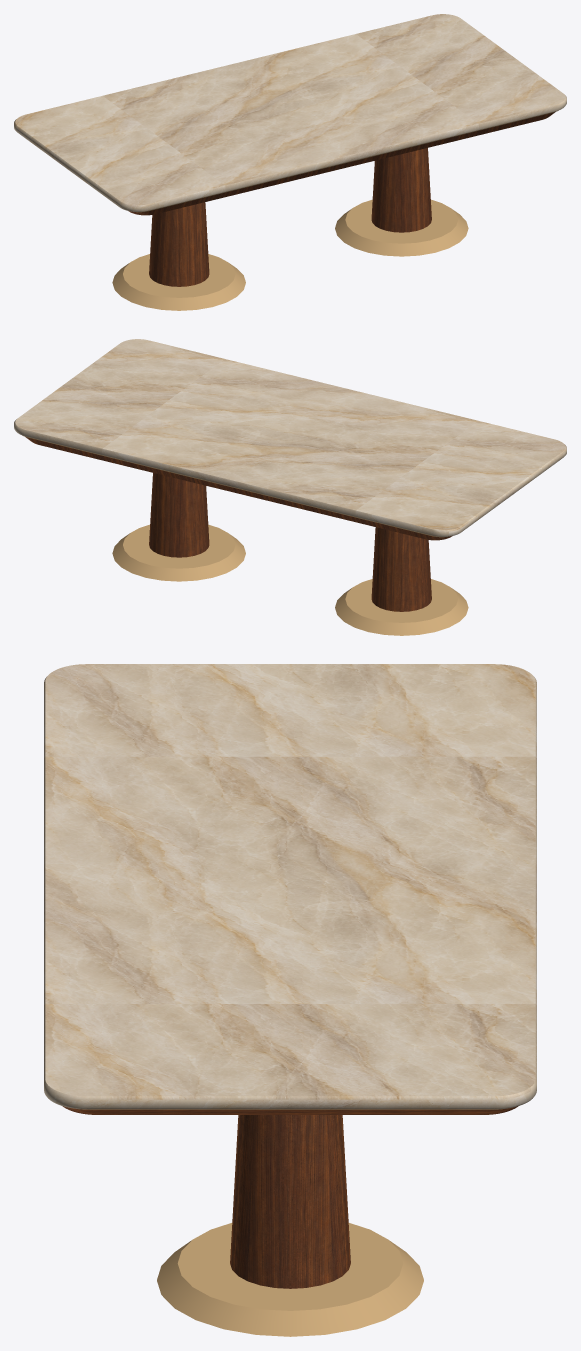
The model's file is SaloonRectangularTableFor8.glb.
The picture shows the model from 3 angles, top to bottom: view 1: azimuth 30°, elevation 25°; view 2: azimuth 150°, elevation 25°; view 3: azimuth 270°, elevation 25°; orthographic projection. The views are drawn at different scales.
Visible parts, largest first — view 1: Champagne edge.002; view 2: Champagne edge.002; view 3: Champagne edge.002.
Boxes of the visible parts, x1=… form: Champagne edge.002: x1=14, y1=14, x2=566, y2=310; Champagne edge.002: x1=14, y1=339, x2=566, y2=635; Champagne edge.002: x1=44, y1=664, x2=536, y2=1336.
Size of the model in its own units: 2.46 by 0.77 by 1.18.
Materials: 3 (2 with a texture image).
